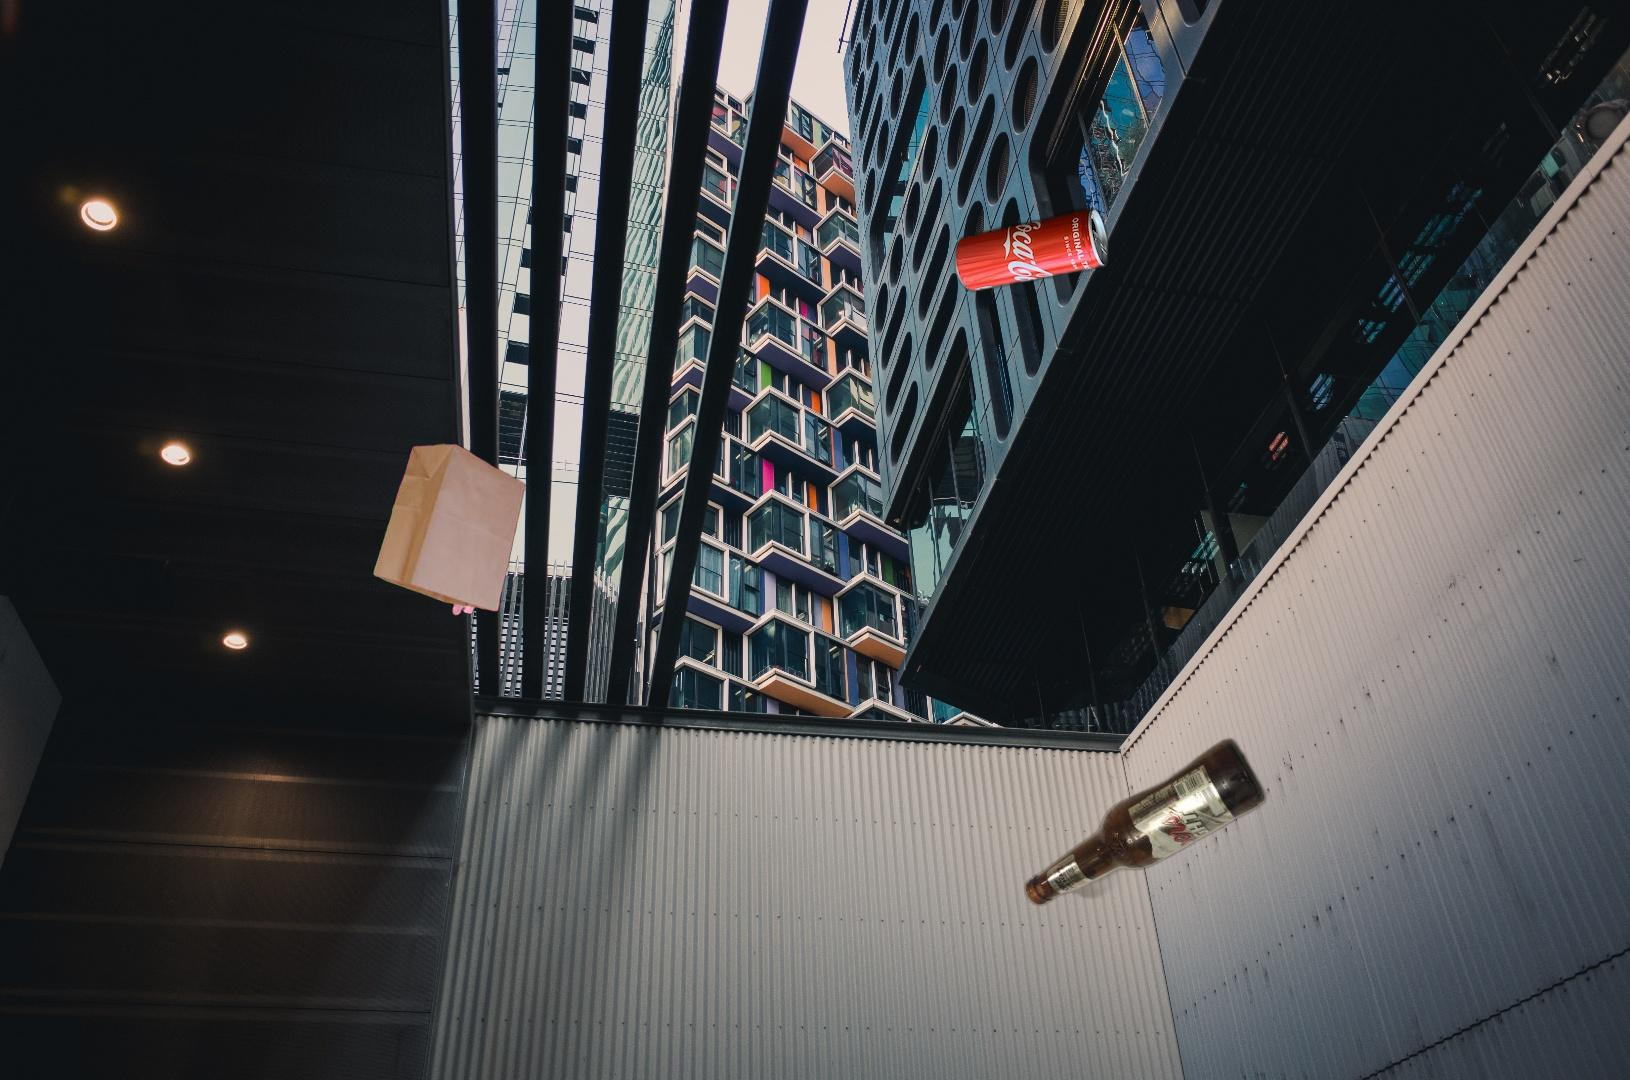glass: (1020, 736, 1271, 909)
metal-cans: (951, 203, 1113, 298)
paper-bag: (370, 437, 570, 626)
